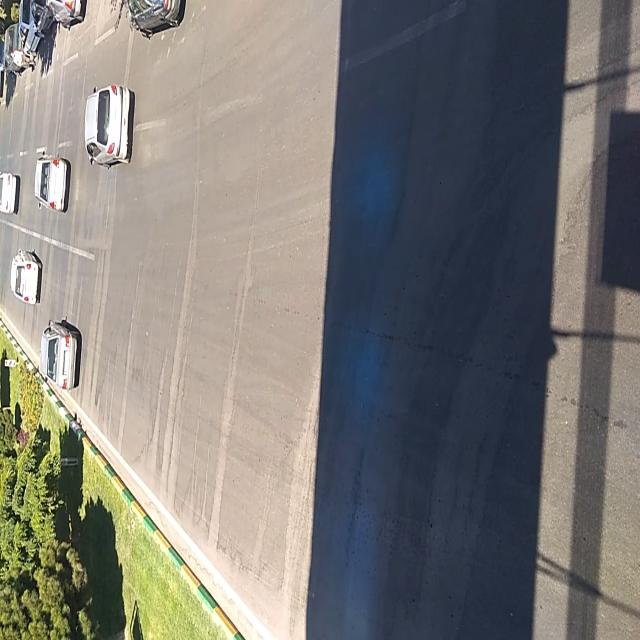car: (84, 89, 130, 165), (40, 318, 80, 392), (35, 148, 68, 212), (11, 250, 41, 306)
